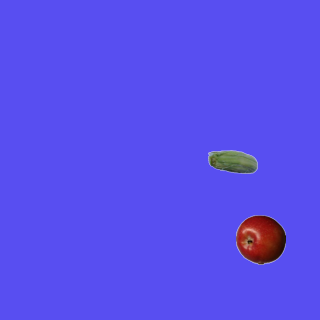Apple Braeburn: (235, 214, 285, 264)
Corn Husk: (207, 138, 257, 188)
